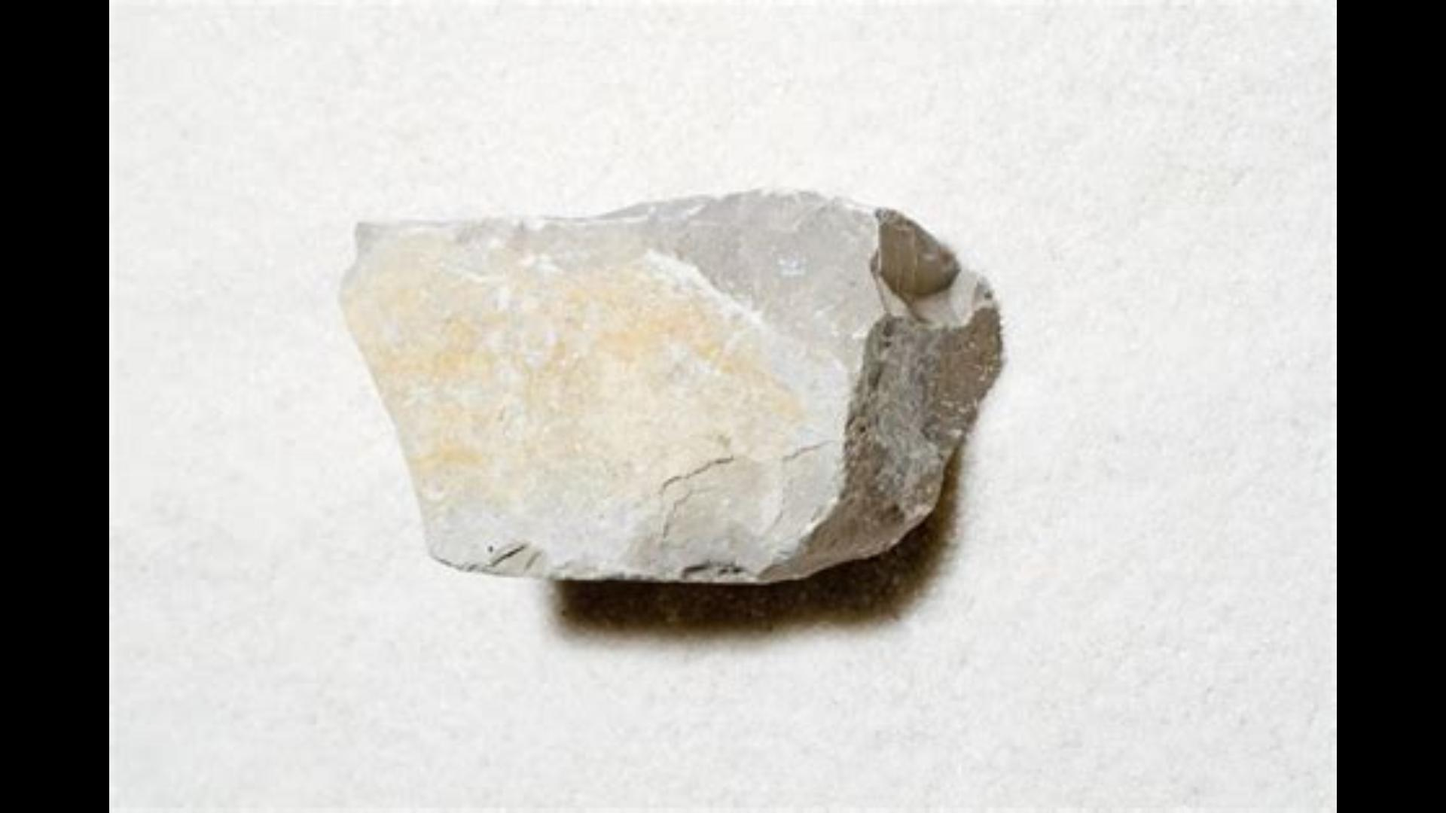rock: (342, 194, 998, 580)
